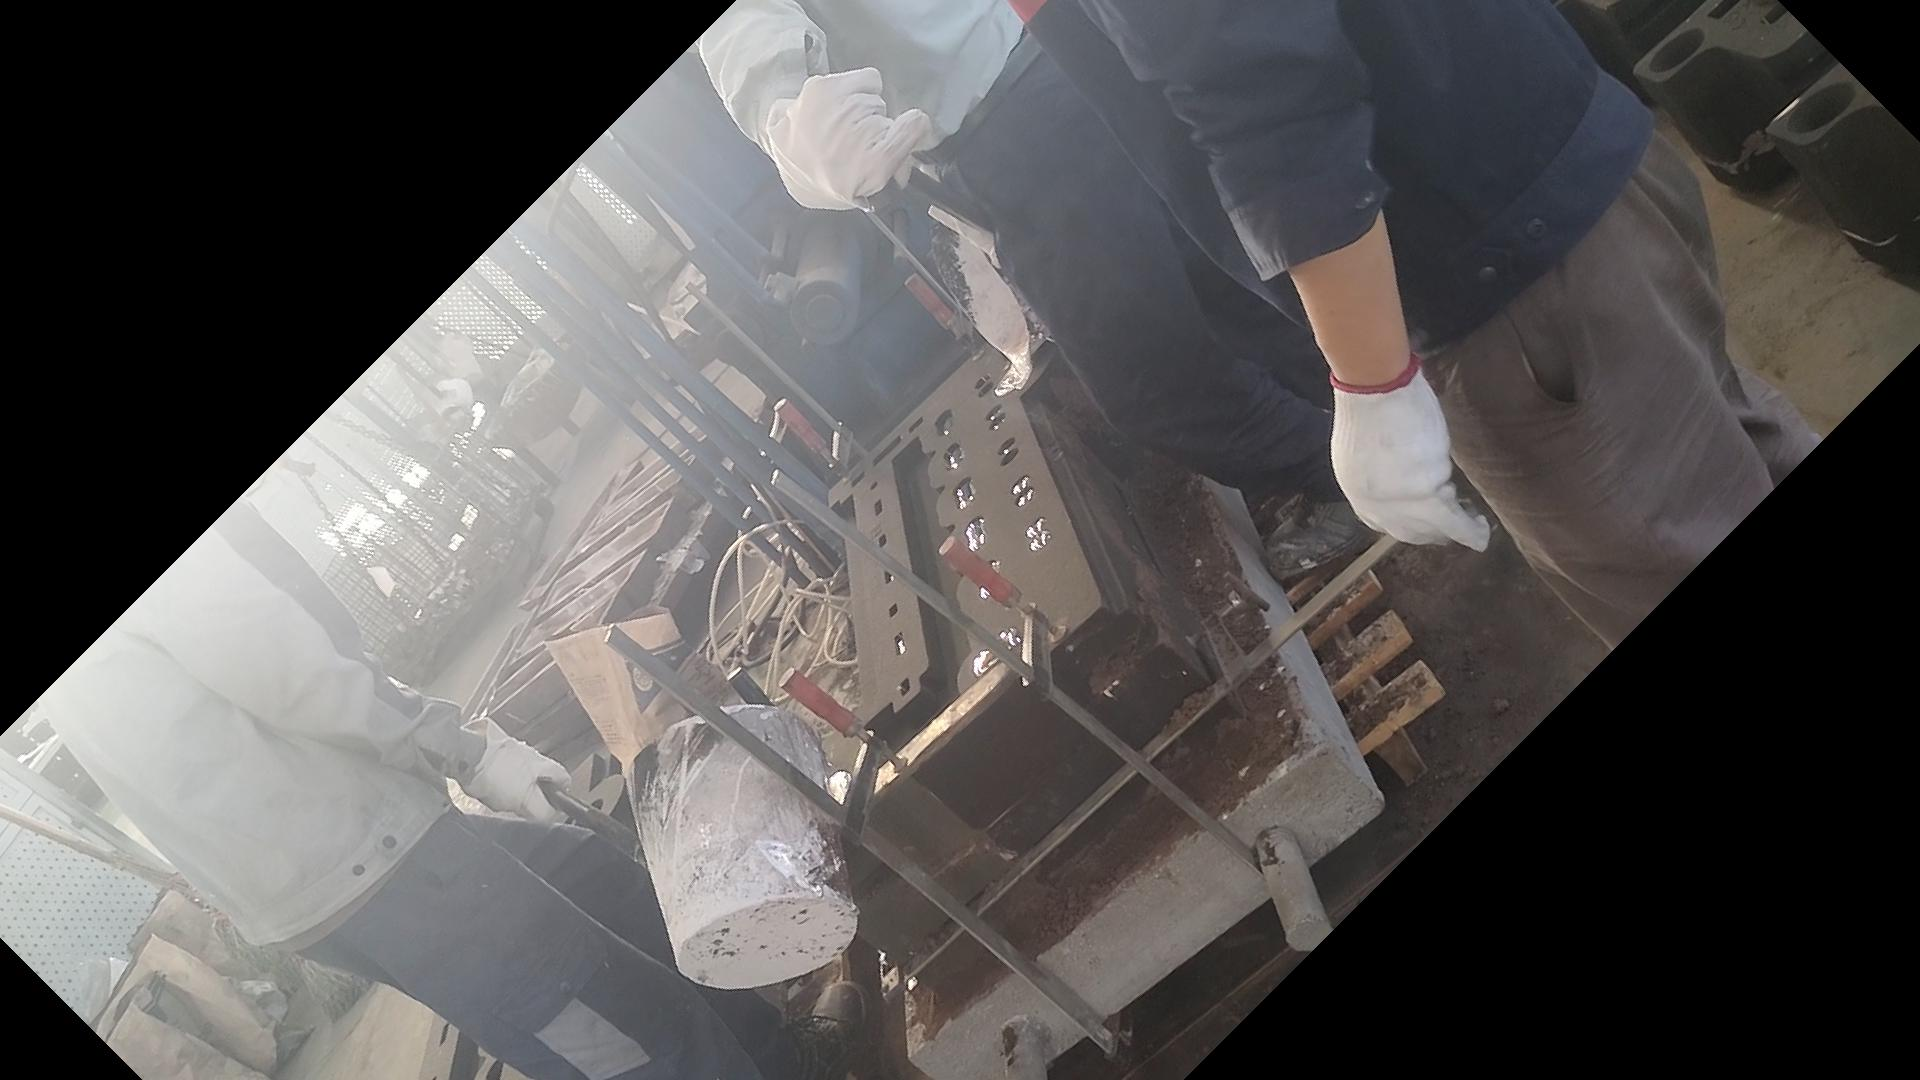pouring hole: (1785, 82, 1854, 137), (1646, 28, 1709, 74), (811, 770, 855, 806), (567, 798, 607, 833), (998, 359, 1034, 392)
